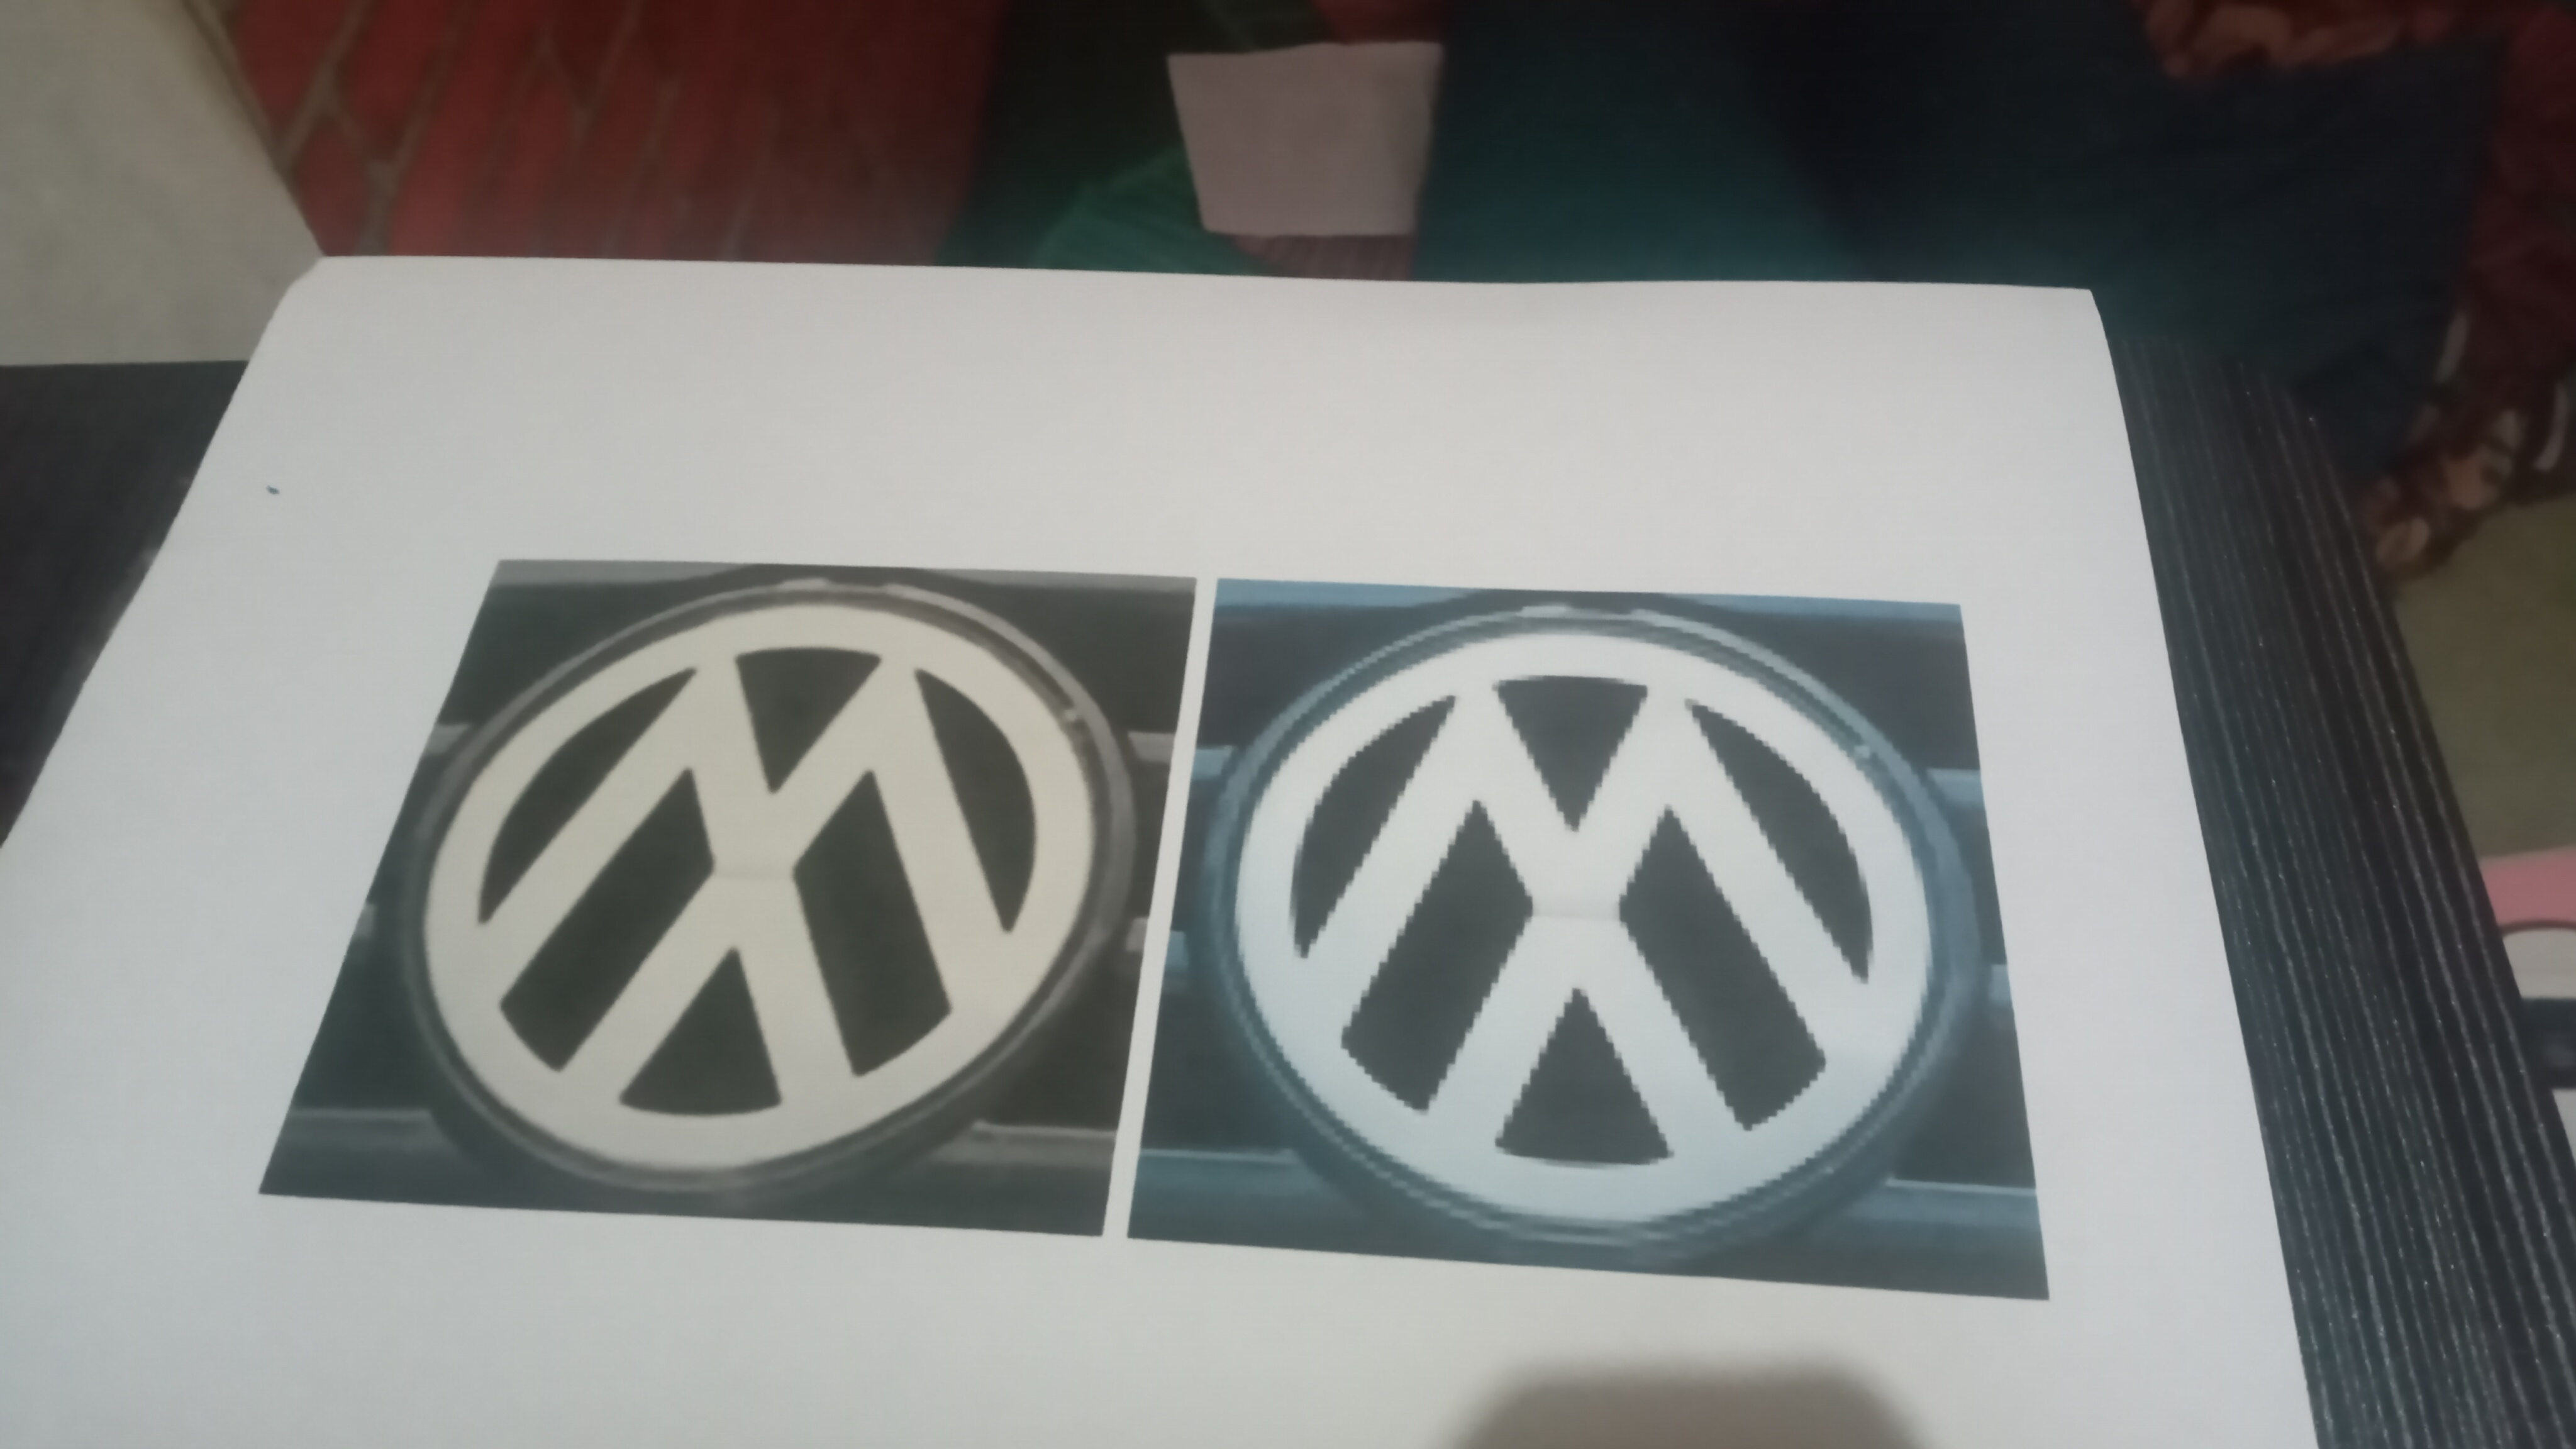Volkswagen: (1217, 593, 1976, 1253), (384, 557, 1099, 1191)
